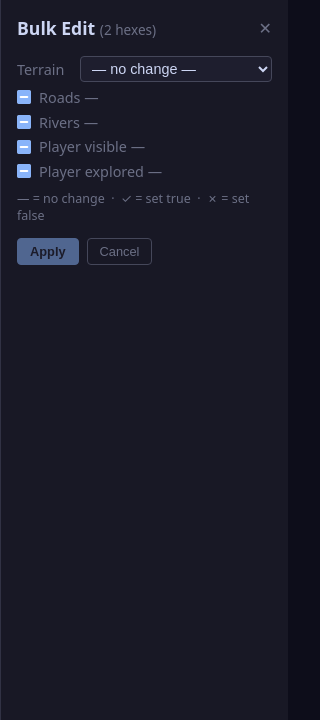
Test: BulkHexPanel tri-state › cycles a checkbox no-change → true → false → no-change
Click the checkbox labelled "Roads —".
click(24, 98)  # box top-left (17, 90), bottom-right (31, 104)
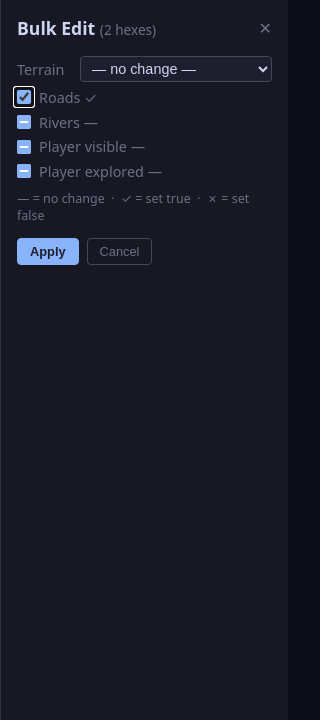
Expected: the checkbox labelled "Roads ✓" is checked
Click the checkbox labelled "Roads ✓".
click(24, 98)  # box top-left (17, 90), bottom-right (31, 104)
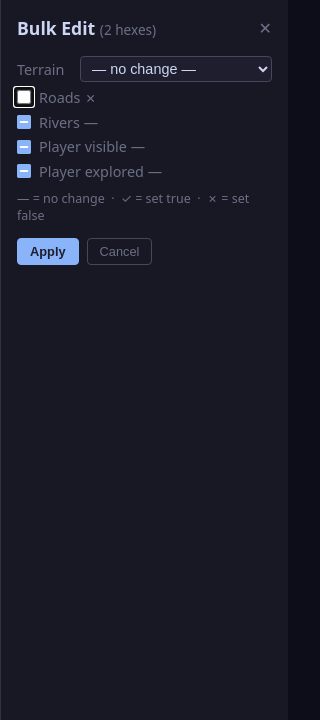
Expected: the checkbox labelled "Roads ✗" is not checked
Click the checkbox labelled "Roads ✗".
click(24, 98)  # box top-left (17, 90), bottom-right (31, 104)
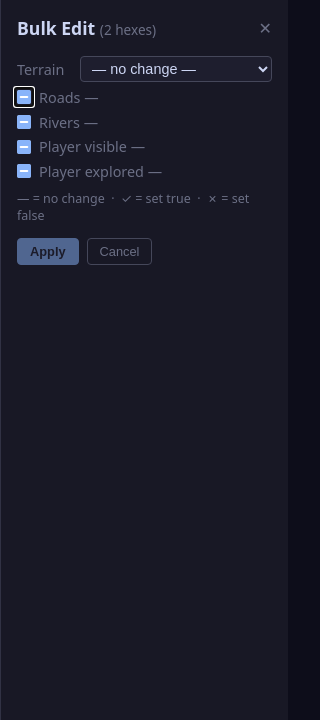
Expected: the button "Apply" is disabled, top-left (17, 238), bottom-right (79, 264)
